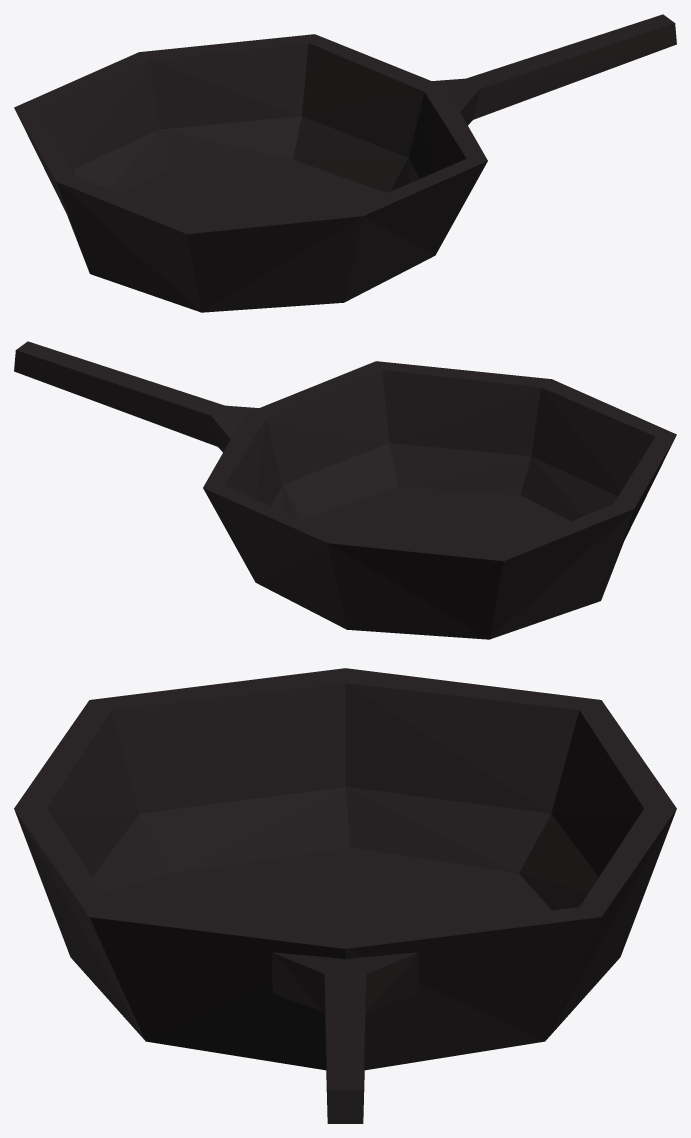
Rendered from castIronSkillet.fbx.
The picture shows the model from 3 angles, top to bottom: view 1: azimuth 30°, elevation 25°; view 2: azimuth 150°, elevation 25°; view 3: azimuth 270°, elevation 25°; orthographic projection. The views are drawn at different scales.
Parts seen in each view (by area): view 1: castIronSkillet; view 2: castIronSkillet; view 3: castIronSkillet.
Part boxes in pixels (<box>): castIronSkillet: <box>14,14,676,312</box>; castIronSkillet: <box>14,341,676,639</box>; castIronSkillet: <box>14,668,676,1123</box>.
Bounding box in the file's own units: 74.2 × 13.15 × 46.88.
1 material, 1 textured.
